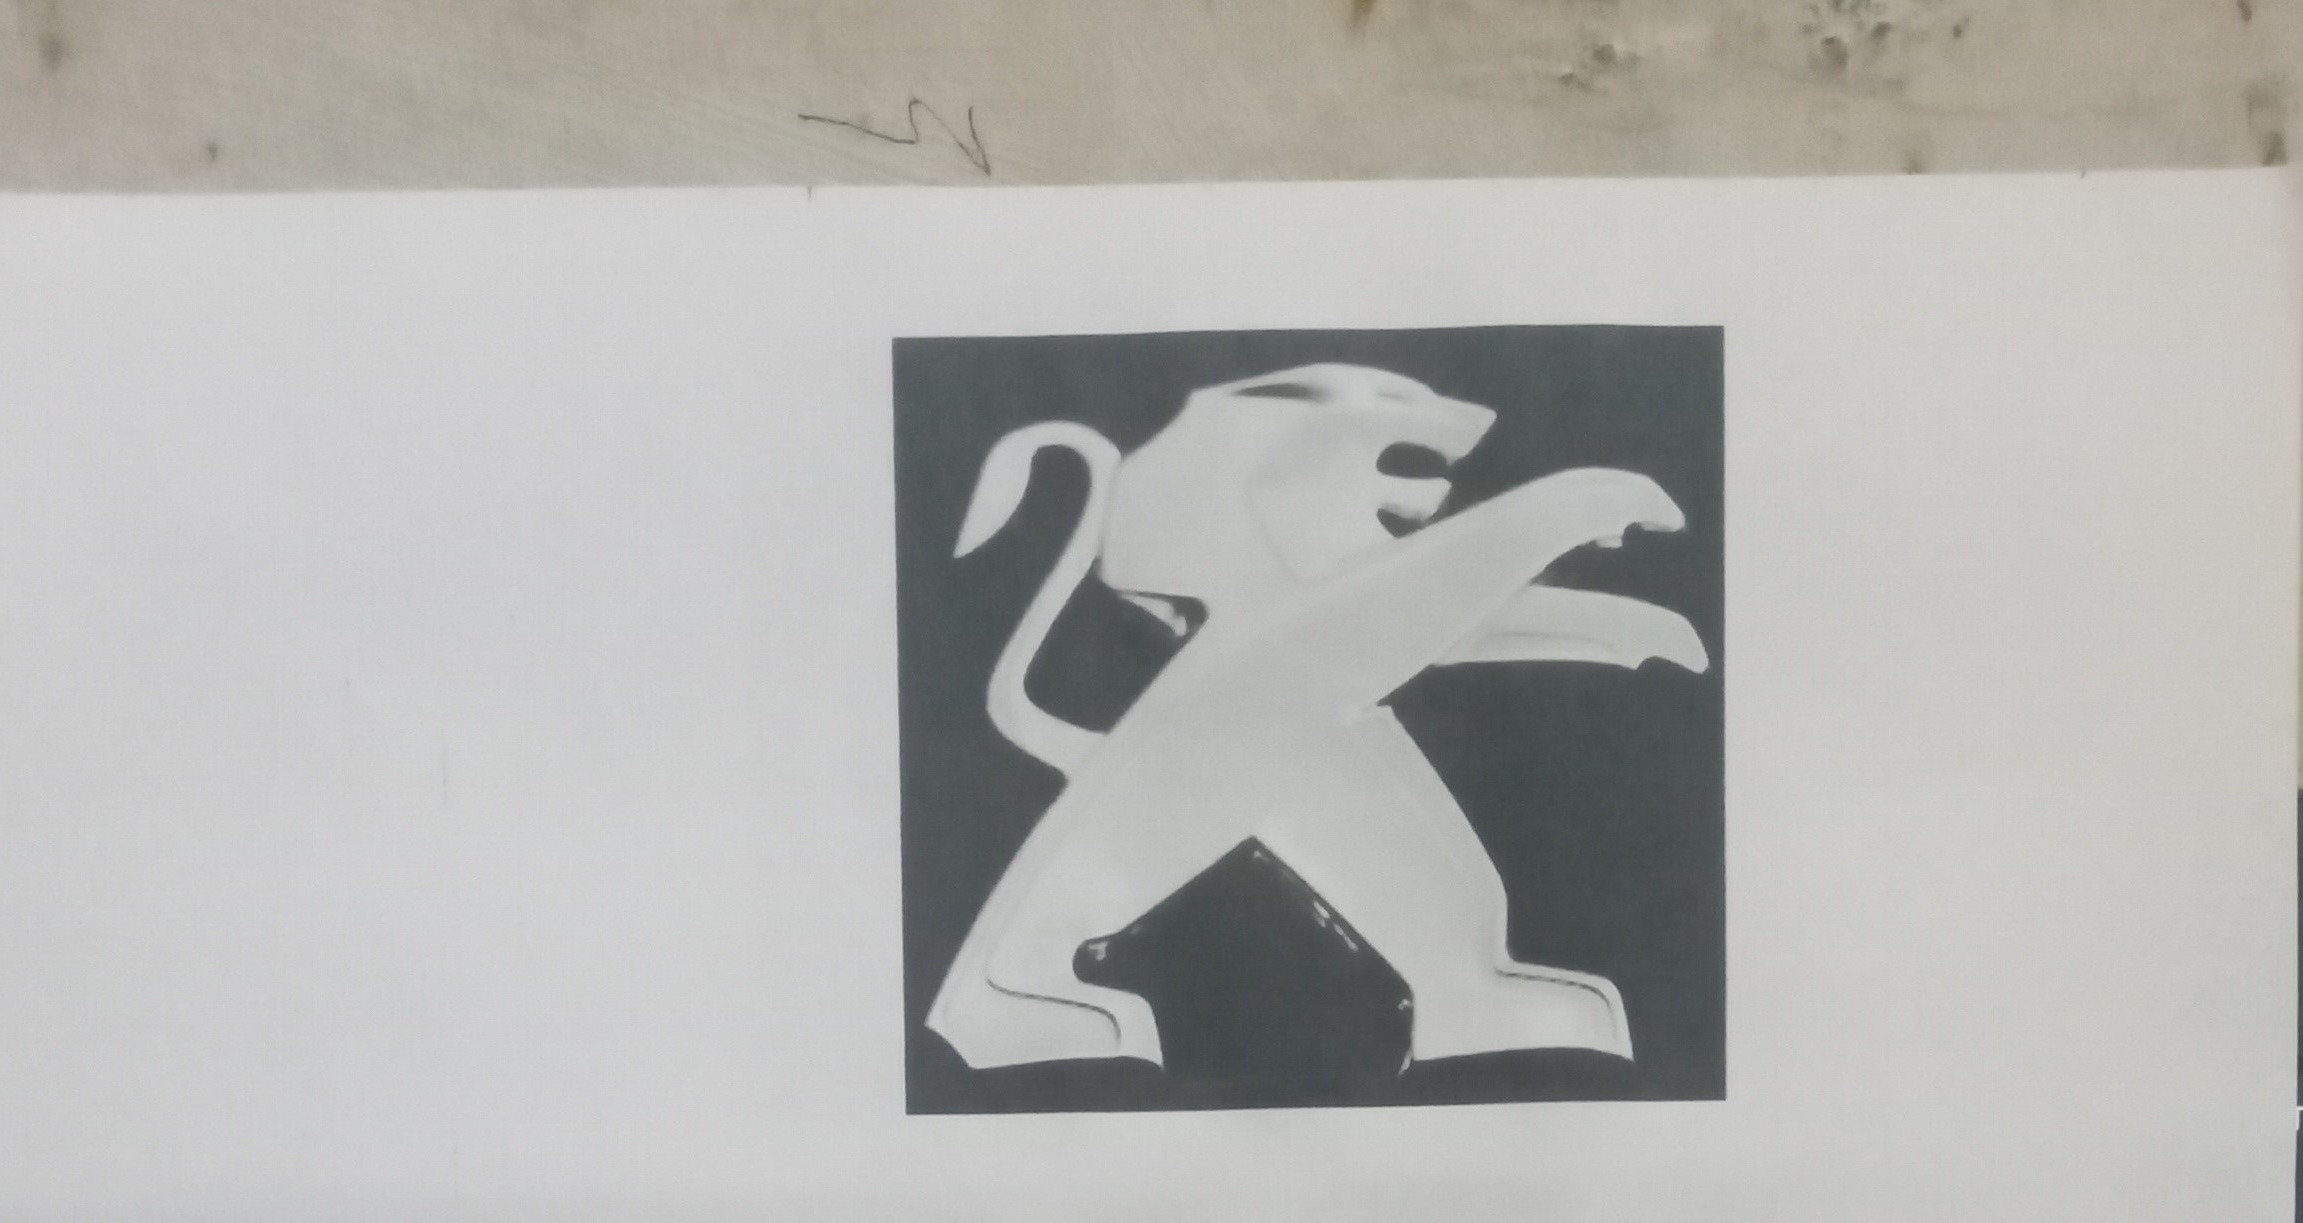Peugeot: (902, 343, 1718, 1094)
